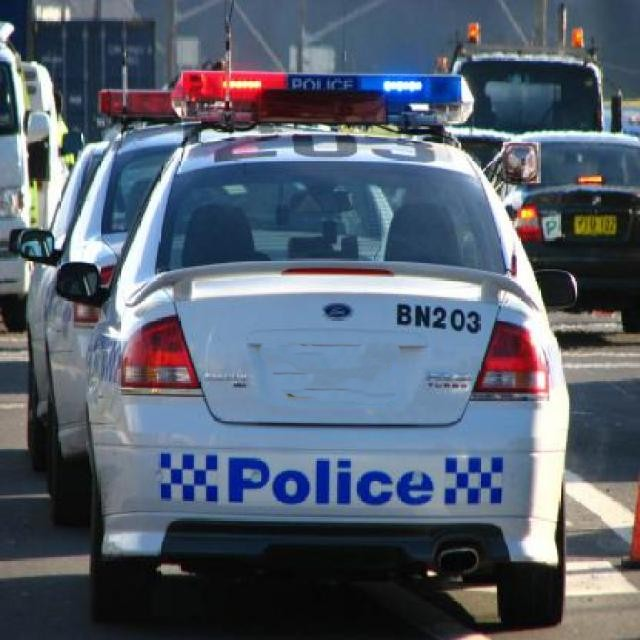car: (54, 69, 565, 625), (484, 131, 638, 329)
